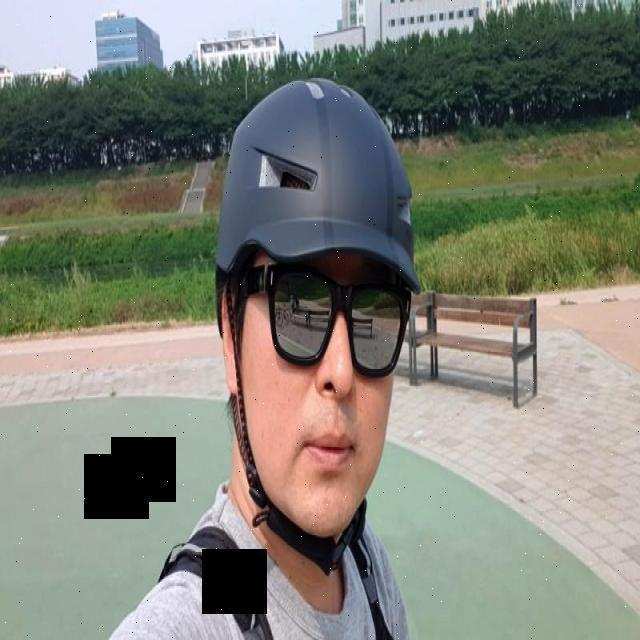helmet: (206, 76, 426, 580)
